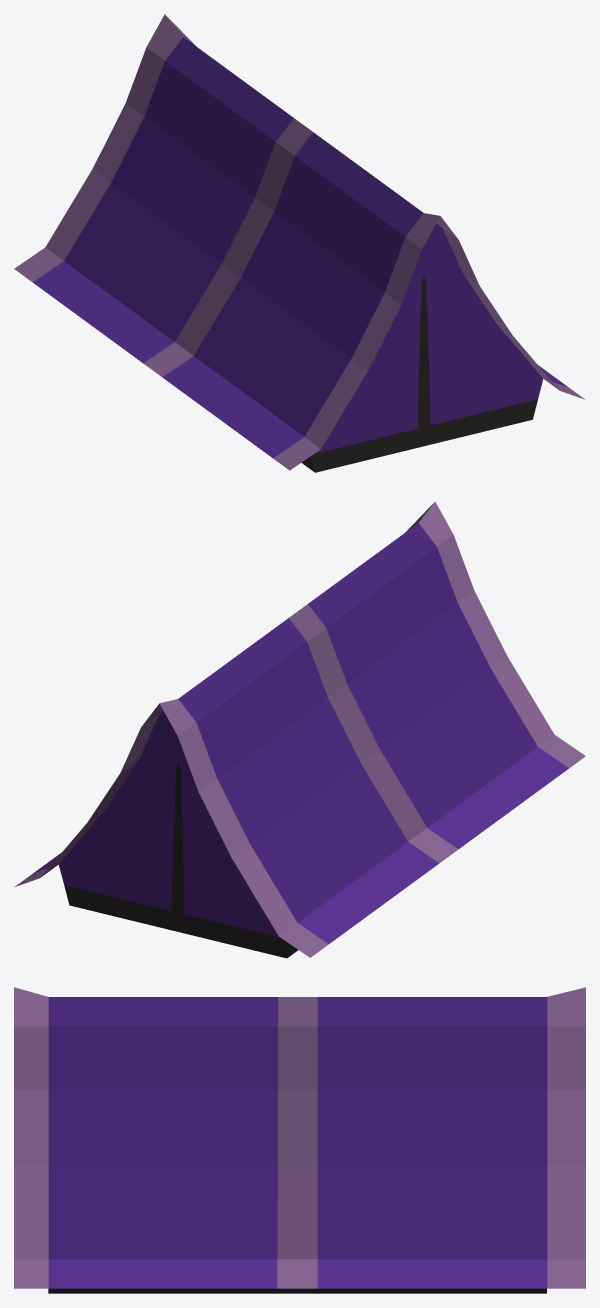
The model's file is Tent_Small_02.fbx.
The picture shows the model from 3 angles, top to bottom: view 1: azimuth 30°, elevation 25°; view 2: azimuth 150°, elevation 25°; view 3: azimuth 270°, elevation 25°; orthographic projection. The views are drawn at different scales.
Parts seen in each view (by area): view 1: Tent_Small_02; view 2: Tent_Small_02; view 3: Tent_Small_02.
Part boxes in pixels (left/top/right/bottom): Tent_Small_02: left=14, top=14, right=585, bottom=472; Tent_Small_02: left=15, top=501, right=585, bottom=958; Tent_Small_02: left=14, top=987, right=585, bottom=1293.
Size of the model in its own units: 1.42 by 1.11 by 2.29.
